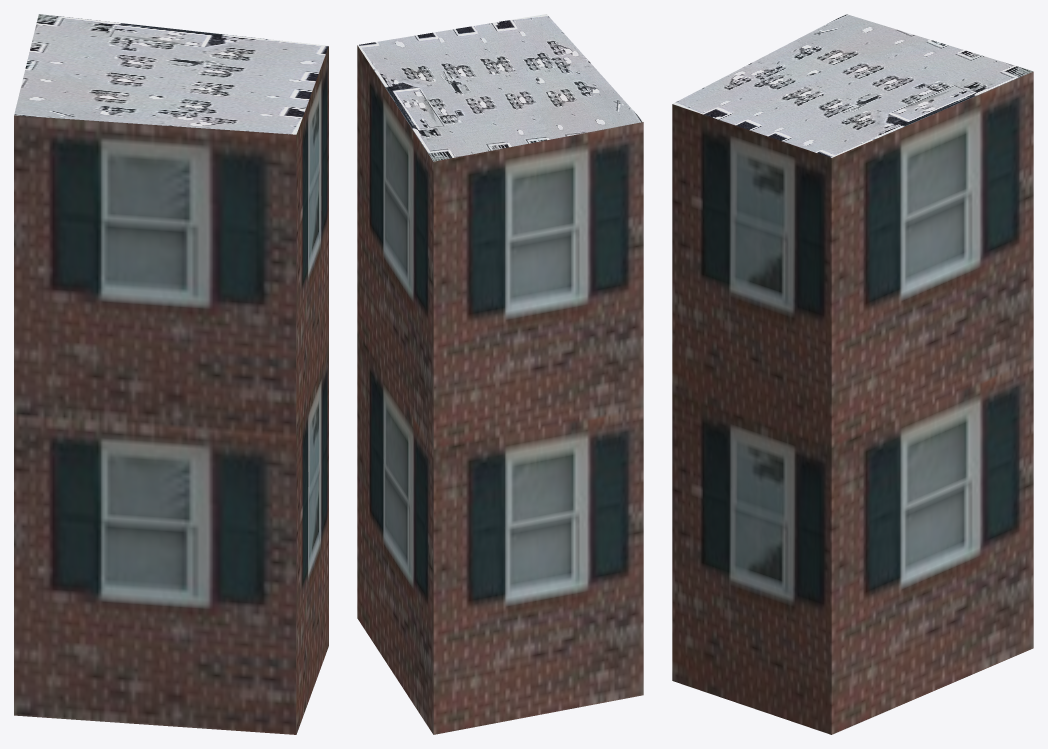
Rendered from ResTex__4968.fbx.
3 views of the same model, side by side, from view 1: azimuth 30°, elevation 25°; view 2: azimuth 150°, elevation 25°; view 3: azimuth 270°, elevation 25° (orthographic). The views are drawn at different scales.
Visible parts, largest first — view 1: CityEngineMaterial_14_m, CityEngineMaterial_4_m; view 2: CityEngineMaterial_14_m, CityEngineMaterial_4_m; view 3: CityEngineMaterial_14_m, CityEngineMaterial_4_m.
Part boxes in pixels (bbox=[...]): CityEngineMaterial_14_m: bbox=[14, 46, 328, 734]; CityEngineMaterial_4_m: bbox=[14, 14, 328, 134]; CityEngineMaterial_14_m: bbox=[357, 45, 643, 734]; CityEngineMaterial_4_m: bbox=[357, 14, 643, 161]; CityEngineMaterial_14_m: bbox=[672, 71, 1033, 734]; CityEngineMaterial_4_m: bbox=[673, 14, 1033, 157].
Bounding box in the file's own units: 3.21 × 6 × 3.41.
Materials: 2 (2 with a texture image).
